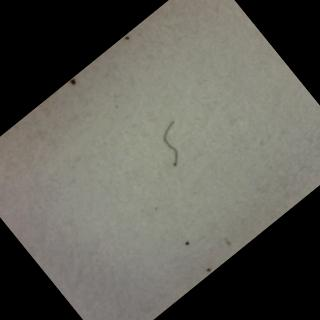Microplastic: (134, 102, 212, 182)
